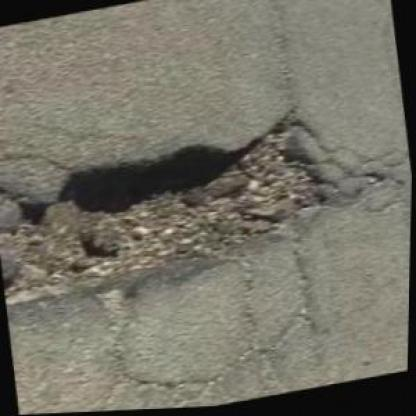pothole: (0, 100, 358, 313)
